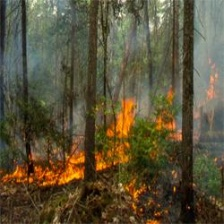fire: (1, 96, 187, 191)
